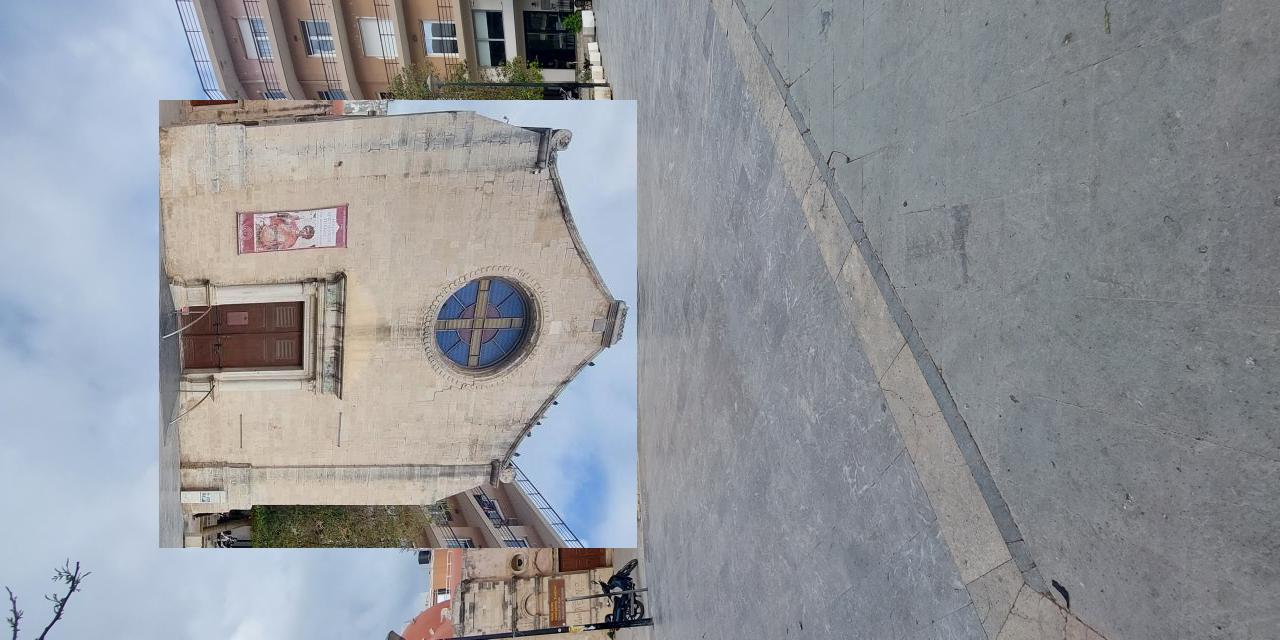Agia Aikaterini: (160, 101, 638, 549)
